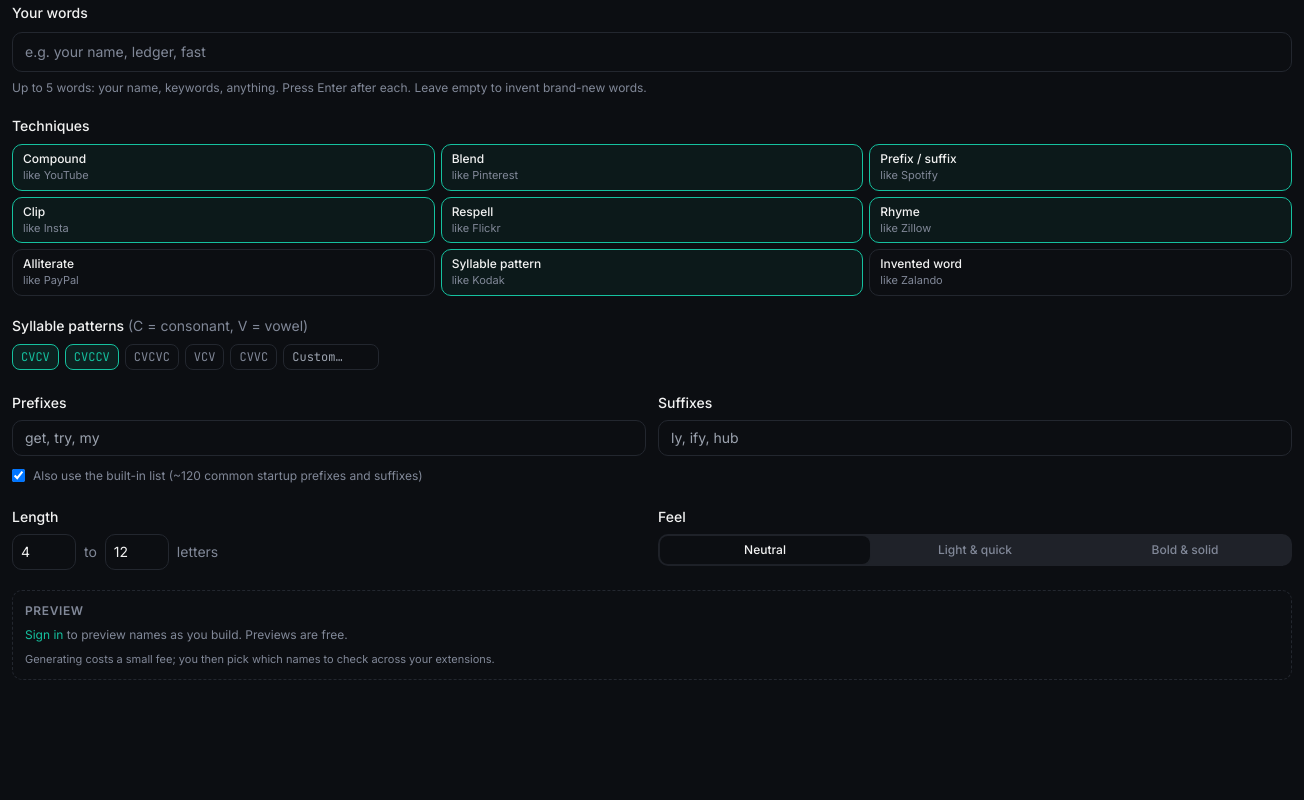
it: WordBuilder › toggles techniques and adds a custom syllable pattern
This screenshot has width=1304, height=800.
Click the text "Blend".
click(468, 159)  # box [452,151,484,167]
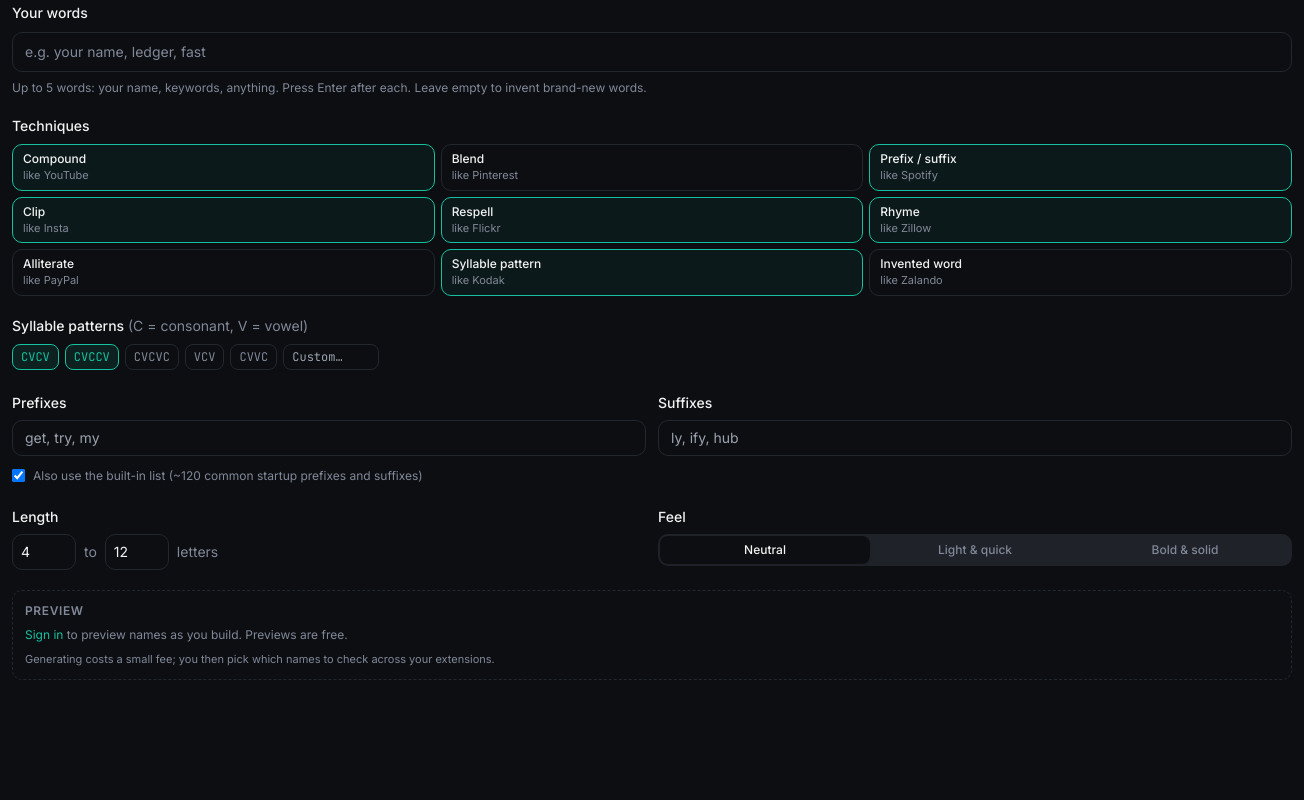
Type "cvccvc" into the field named "Custom pattern".
click(331, 356); type("cvccvc")  # box [283,344,379,370]
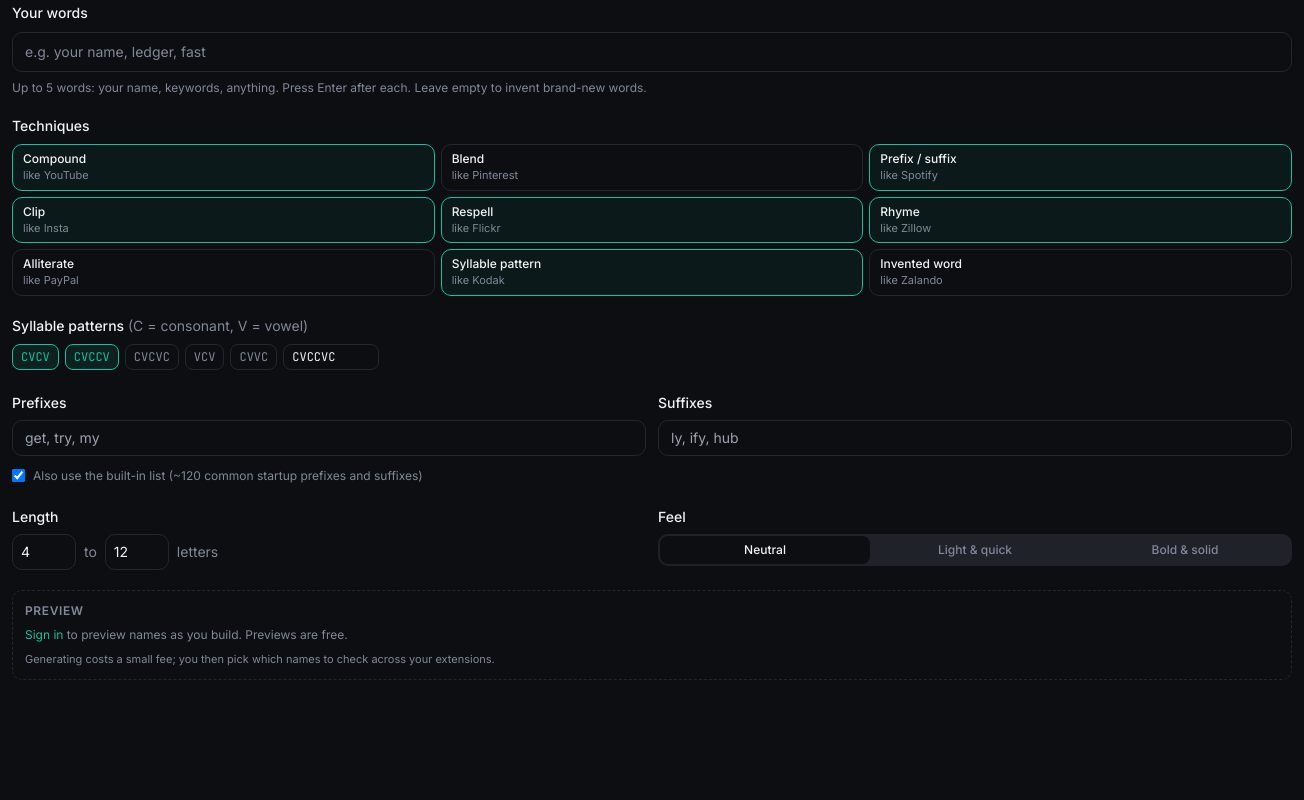
Press Enter in the field named "Custom pattern", box [283,344,379,370]
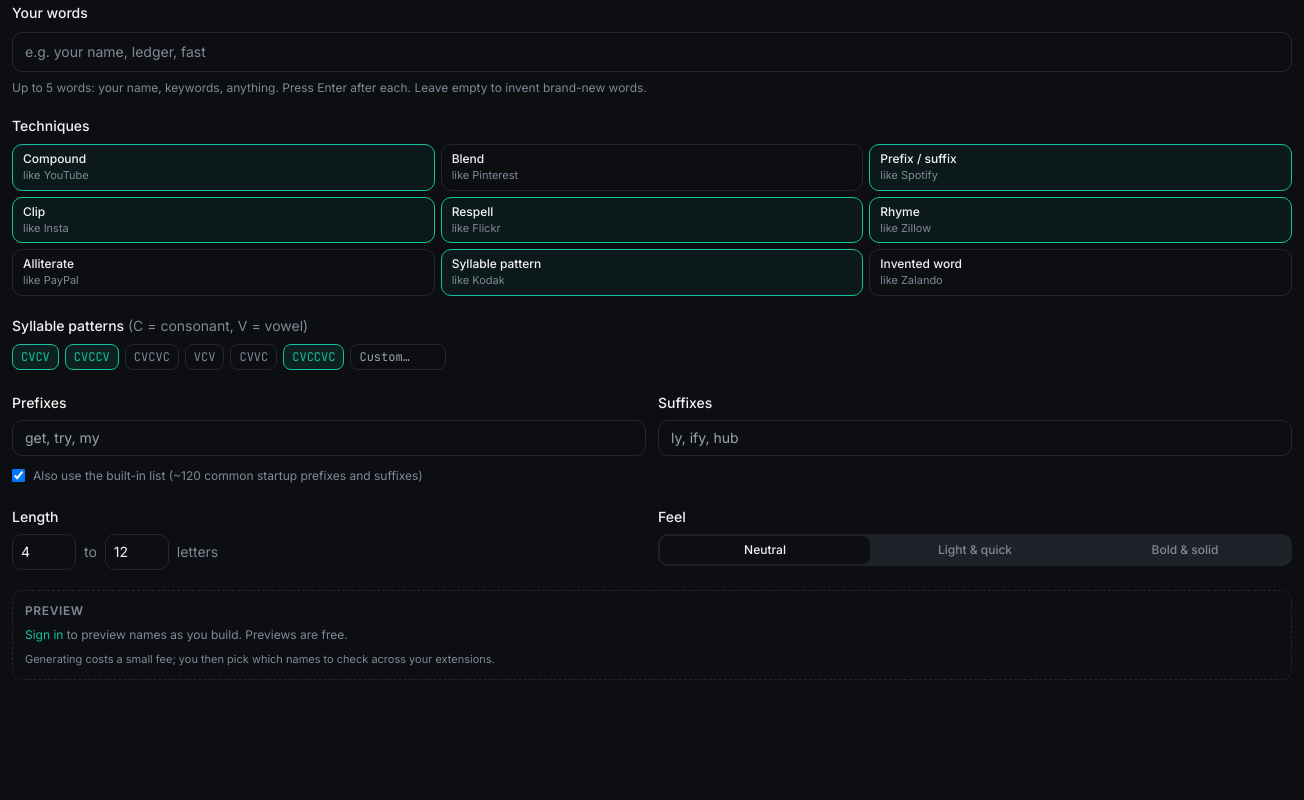
Result: the button "CVCCVC" is shown at [283,344,344,370]
